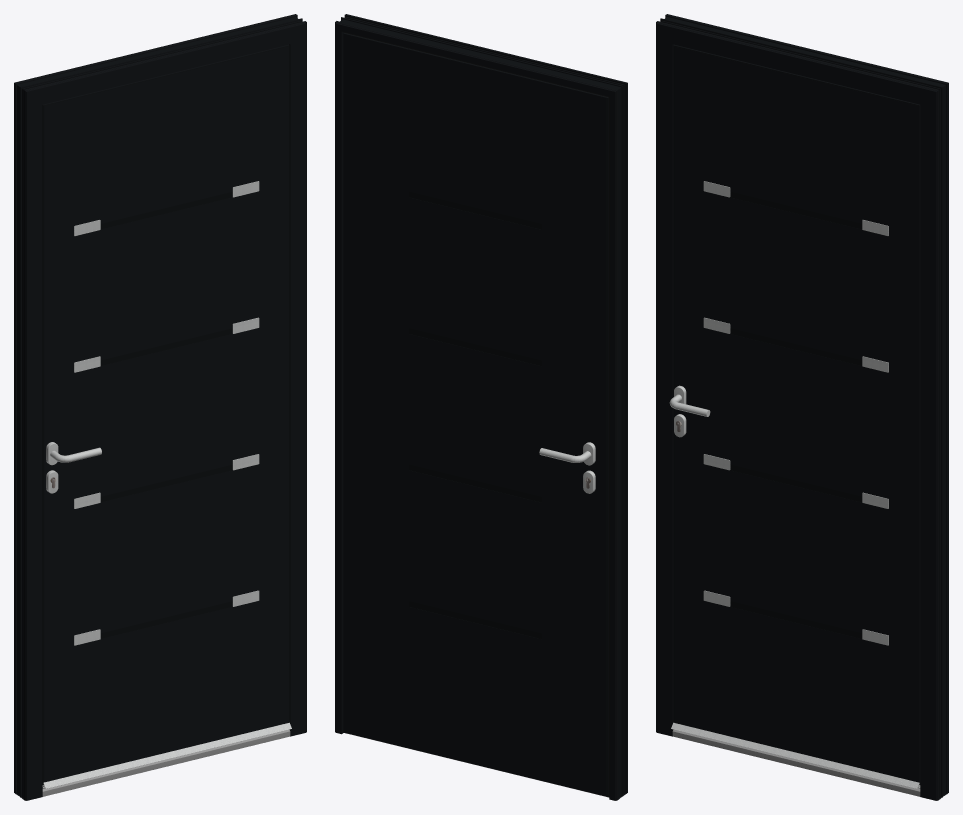
3 renders of one model, left to right at view 1: azimuth 30°, elevation 25°; view 2: azimuth 150°, elevation 25°; view 3: azimuth 330°, elevation 25°, orthographic.
Visible parts, largest first — view 1: bloco_43, aroFixo, monobloco, aroMovel, alunox_27, rodapé, escovas, puxador001; view 2: bloco_43, aroFixo, monobloco, aroMovel, puxador; view 3: bloco_43, aroFixo, monobloco, aroMovel, alunox_27, rodapé, escovas, puxador001.
Part boxes in pixels (<box>): bloco_43: <box>44,46,288,782</box>; aroFixo: <box>14,14,306,800</box>; monobloco: <box>44,46,288,781</box>; aroMovel: <box>42,44,289,784</box>; alunox_27: <box>74,181,259,645</box>; rodapé: <box>42,729,290,796</box>; escovas: <box>42,722,291,788</box>; puxador001: <box>46,442,101,493</box>; bloco_43: <box>344,34,606,796</box>; aroFixo: <box>335,14,627,800</box>; monobloco: <box>409,98,607,795</box>; aroMovel: <box>343,32,609,796</box>; puxador: <box>539,442,595,493</box>; bloco_43: <box>674,46,918,782</box>; aroFixo: <box>656,14,948,800</box>; monobloco: <box>674,46,918,722</box>; aroMovel: <box>673,44,920,784</box>; alunox_27: <box>703,181,888,645</box>; rodapé: <box>672,729,920,796</box>; escovas: <box>671,722,920,788</box>; puxador001: <box>669,385,710,437</box>.
Size of the model in its own units: 900 by 2165 by 209.
Materials: 7 (2 with a texture image).
